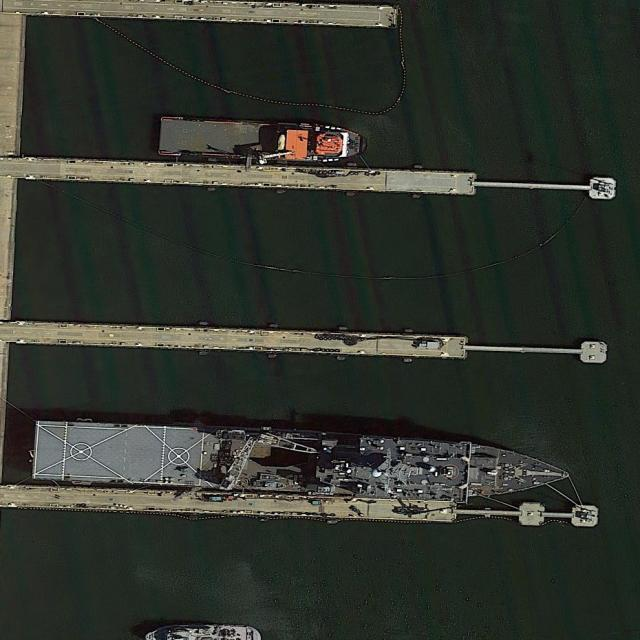Cargo: (155, 112, 370, 169)
Dock: (8, 321, 608, 362), (16, 158, 615, 199), (1, 486, 597, 526)
Landing: (29, 418, 573, 509)
